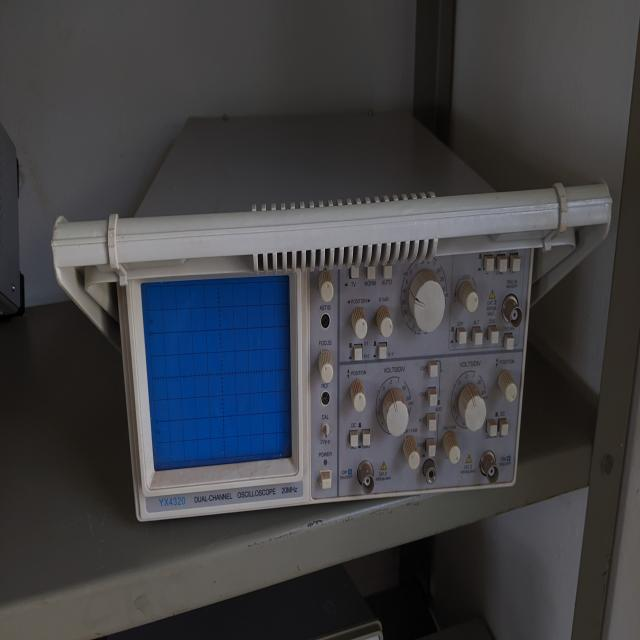Cathode Ray Oscilloscope: (43, 182, 565, 533)
